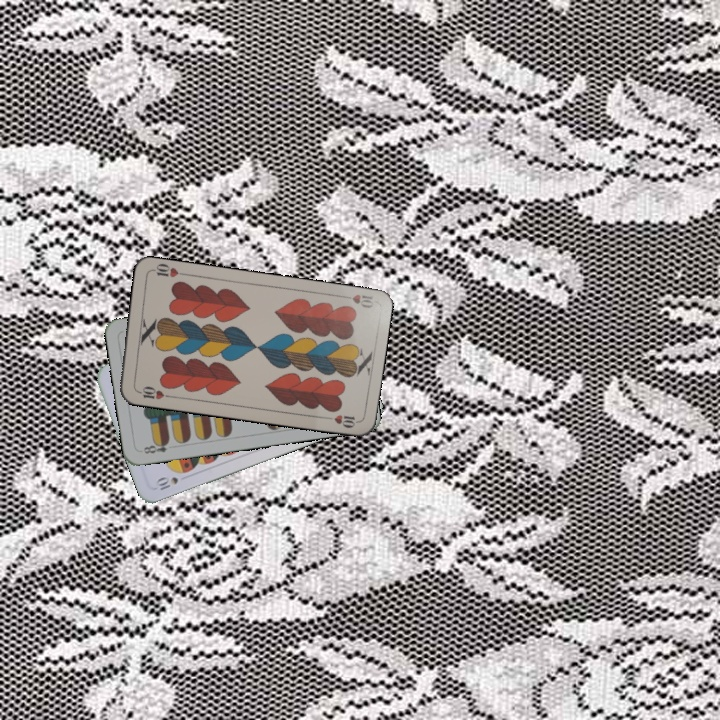E8: (139, 437, 172, 456)
H10: (336, 290, 376, 311), (132, 382, 173, 402)
S10: (152, 473, 181, 493)
